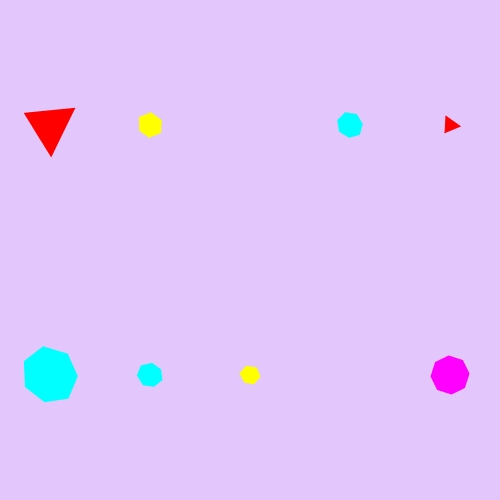heptagon: (19, 345, 82, 406), (333, 109, 367, 142), (133, 359, 167, 391)
hexagon: (133, 110, 168, 140), (235, 362, 265, 388)
octagon: (427, 352, 474, 399)
triangle: (23, 97, 77, 154), (438, 112, 463, 138)
